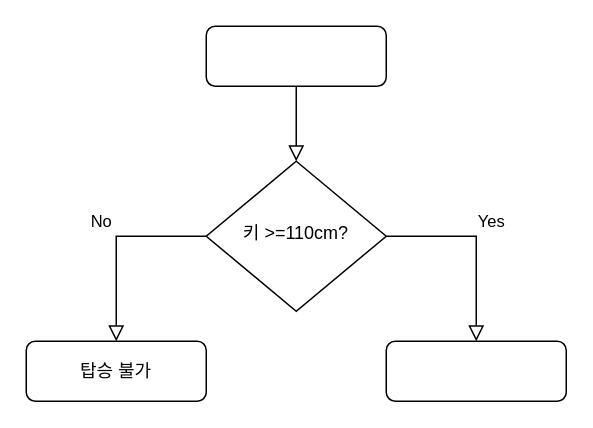
Image size: 593x428. Some labels were removed from this diagram. The centre of each missing label's shape, as x and y in pixels:
롤러코스터: [295,55]
탑승 가능: [475,370]
